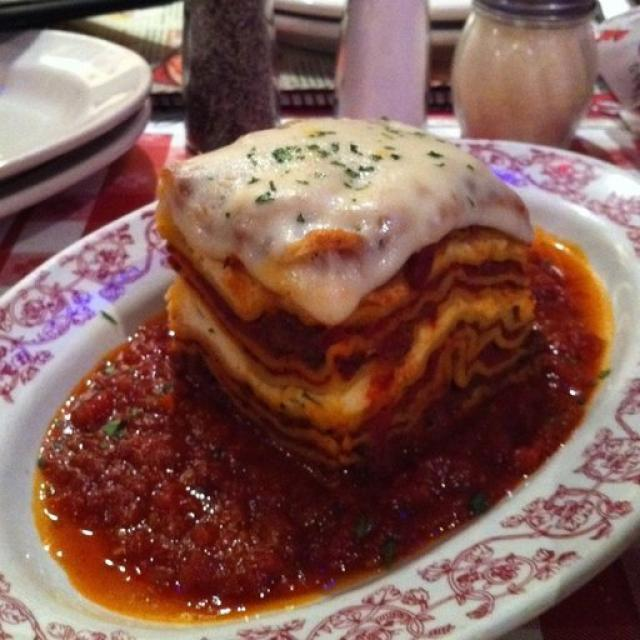Lasagna: (139, 104, 568, 515)
